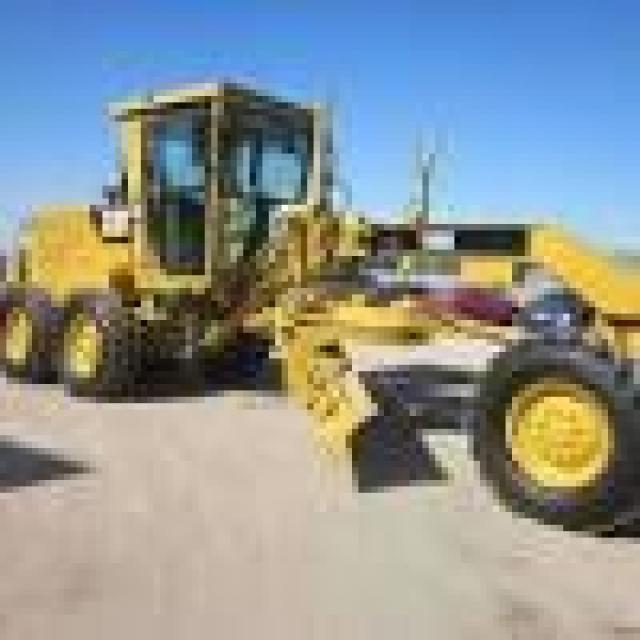buldozerpayloadergrader: (0, 32, 634, 531)
